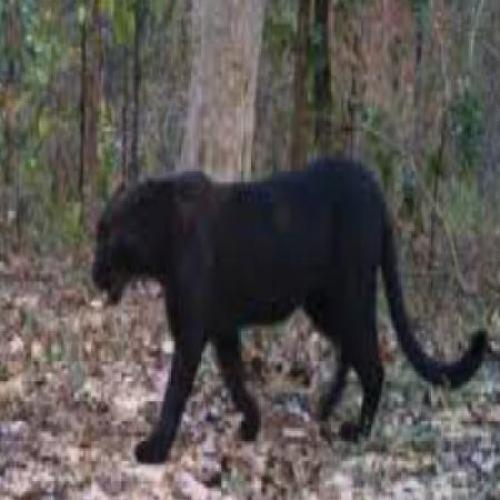panther-endangered: (91, 169, 472, 430)
